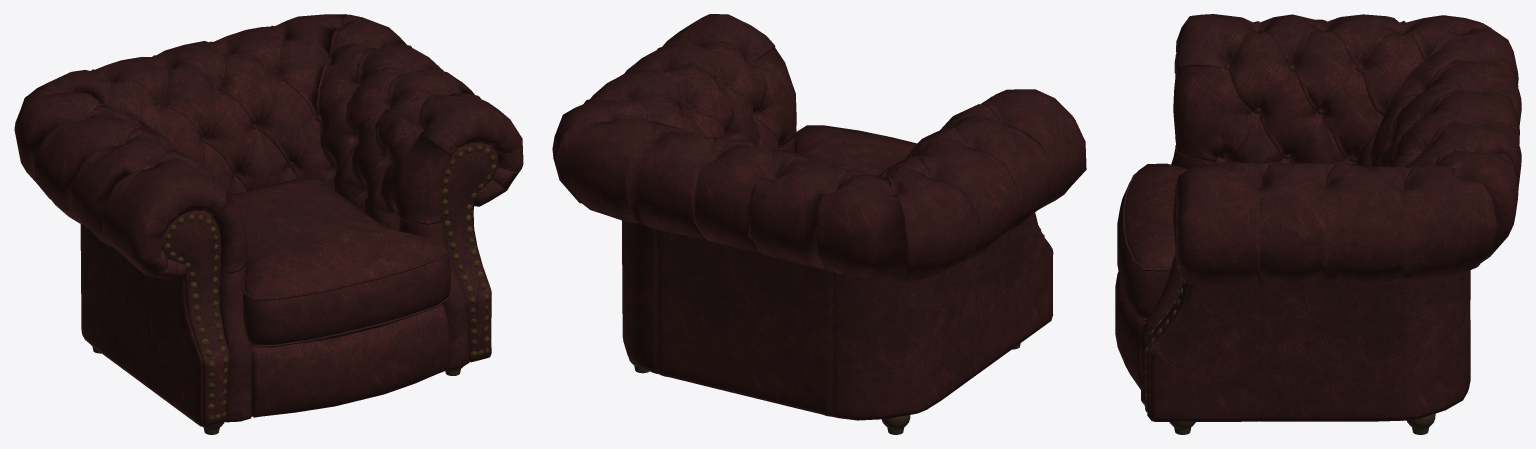
Rendered from Chester_Kreslo.glb.
The picture shows the model from 3 angles, left to right: view 1: azimuth 30°, elevation 25°; view 2: azimuth 150°, elevation 25°; view 3: azimuth 270°, elevation 25°; orthographic projection. The views are drawn at different scales.
Visible parts, largest first — view 1: Chesterfield_chair; view 2: Chesterfield_chair; view 3: Chesterfield_chair.
Boxes of the visible parts, x1,y1,x2,y2 form: Chesterfield_chair: (14, 14, 523, 434); Chesterfield_chair: (552, 14, 1086, 434); Chesterfield_chair: (1115, 14, 1521, 434).
Bounding box in the file's own units: 1.23 × 0.7707 × 1.03.
3 materials, 3 textured.
